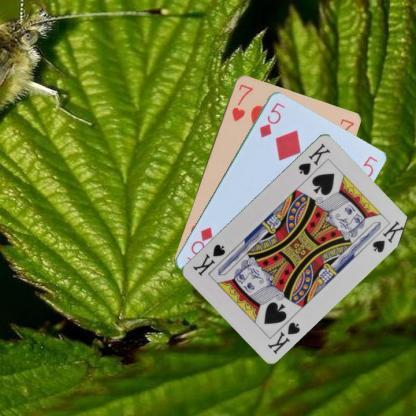5d: (257, 98, 286, 138)
7h: (228, 80, 254, 122)
Ks: (264, 318, 302, 355), (295, 140, 332, 176)
